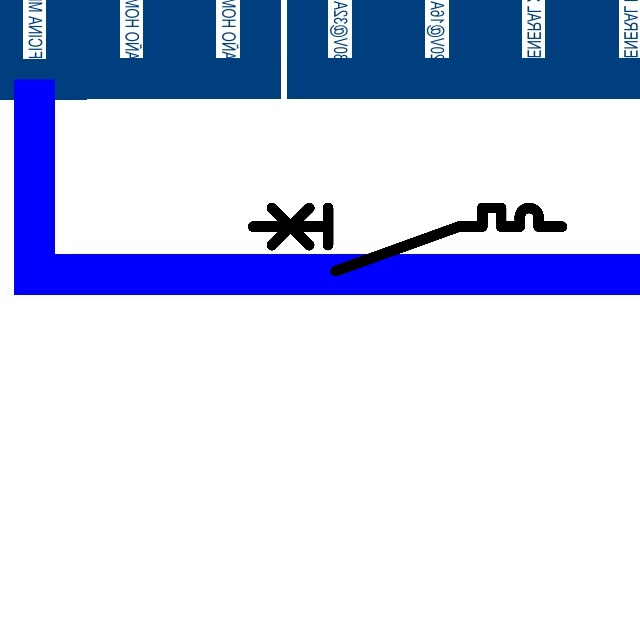interruptor_termomagnetico: (245, 200, 570, 279)
